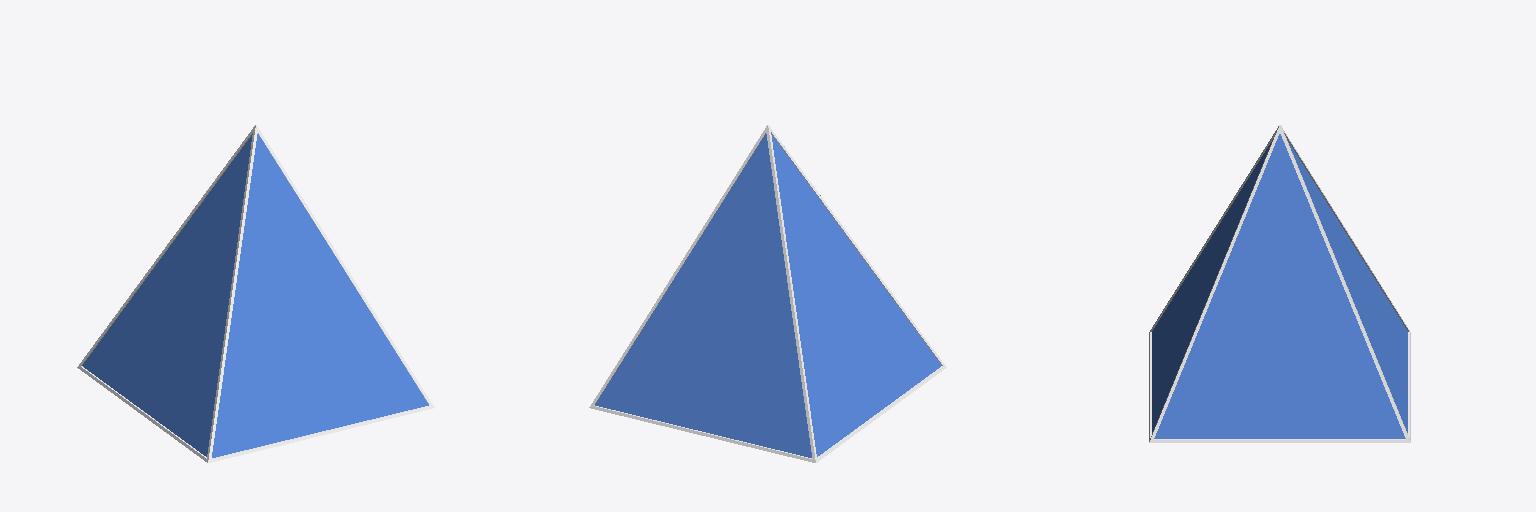
Rendered from Pir.obj.
3 views of the same model, side by side, from view 1: azimuth 30°, elevation 25°; view 2: azimuth 150°, elevation 25°; view 3: azimuth 270°, elevation 25° (orthographic).
Visible parts, largest first — view 1: Mesh1 Model; view 2: Mesh1 Model; view 3: Mesh1 Model.
Boxes of the visible parts, <box> form: Mesh1 Model: <box>77,125,434,462</box>; Mesh1 Model: <box>589,125,946,462</box>; Mesh1 Model: <box>1149,125,1410,442</box>.
Bounding box in the file's own units: 41 × 45.58 × 41.